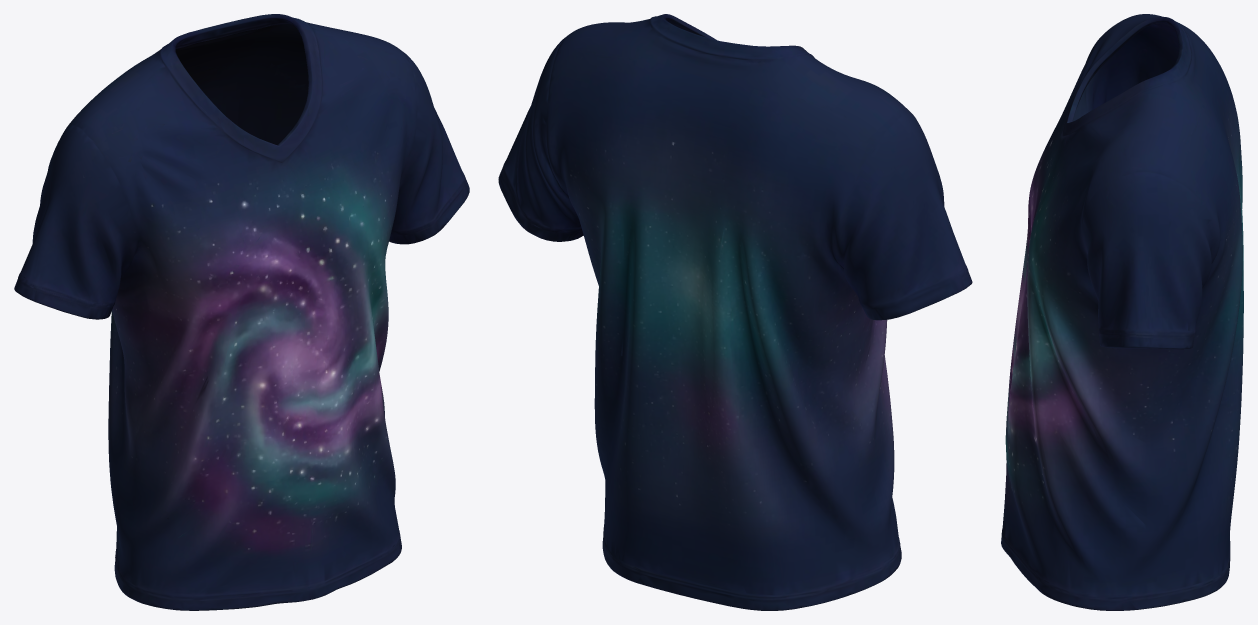
Rendered from DMS -02.glb.
3 views of the same model, side by side, from view 1: azimuth 30°, elevation 25°; view 2: azimuth 150°, elevation 25°; view 3: azimuth 270°, elevation 25° (orthographic). The views are drawn at different scales.
Parts seen in each view (by area): view 1: Mesh_0; view 2: Mesh_0; view 3: Mesh_0.
Boxes of the visible parts, box(x1,y1,x2,y2) form: Mesh_0: box(14, 14, 469, 610); Mesh_0: box(498, 14, 972, 610); Mesh_0: box(1001, 14, 1243, 610).
Size of the model in its own units: 0.9754 by 1.08 by 0.4662.
Materials: 1 (1 with a texture image).
